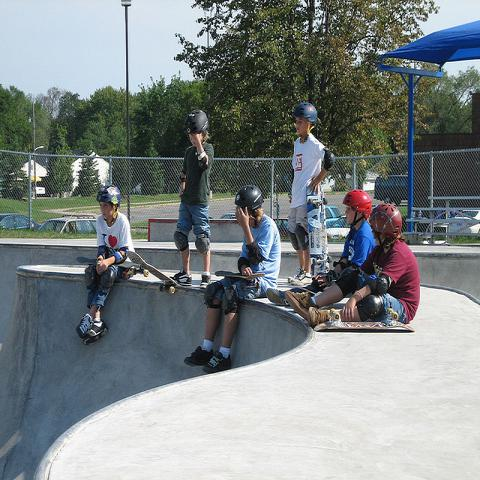car: (37, 217, 96, 234), (448, 209, 480, 234), (0, 216, 39, 231), (325, 206, 345, 228), (273, 219, 289, 241)
